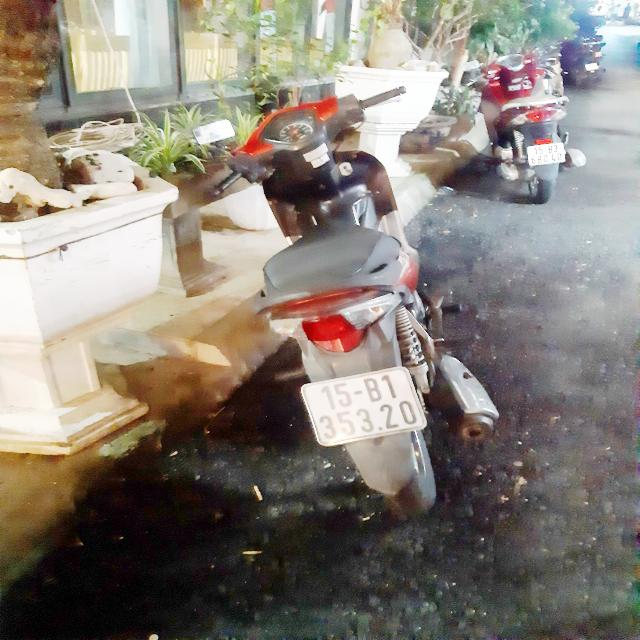license_plate: (292, 360, 436, 454), (524, 141, 569, 169)
